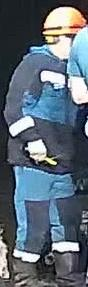helmet: (41, 6, 86, 36)
vest: (3, 44, 87, 180)
